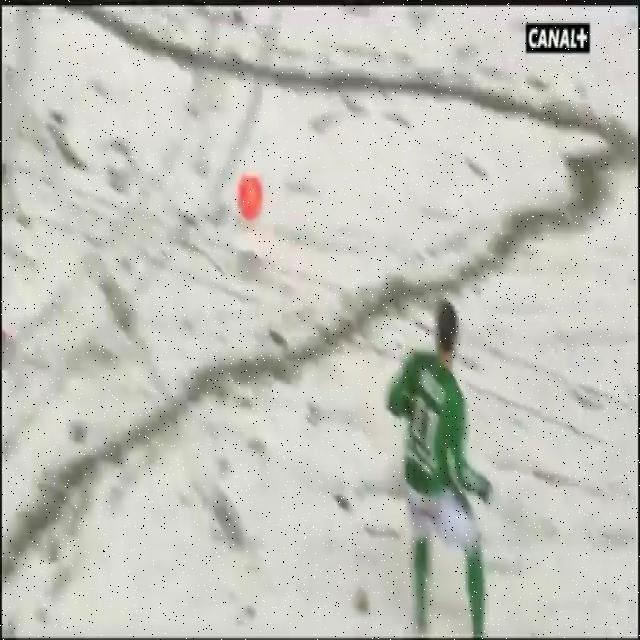ball: (217, 163, 269, 238)
player: (338, 236, 544, 640)
